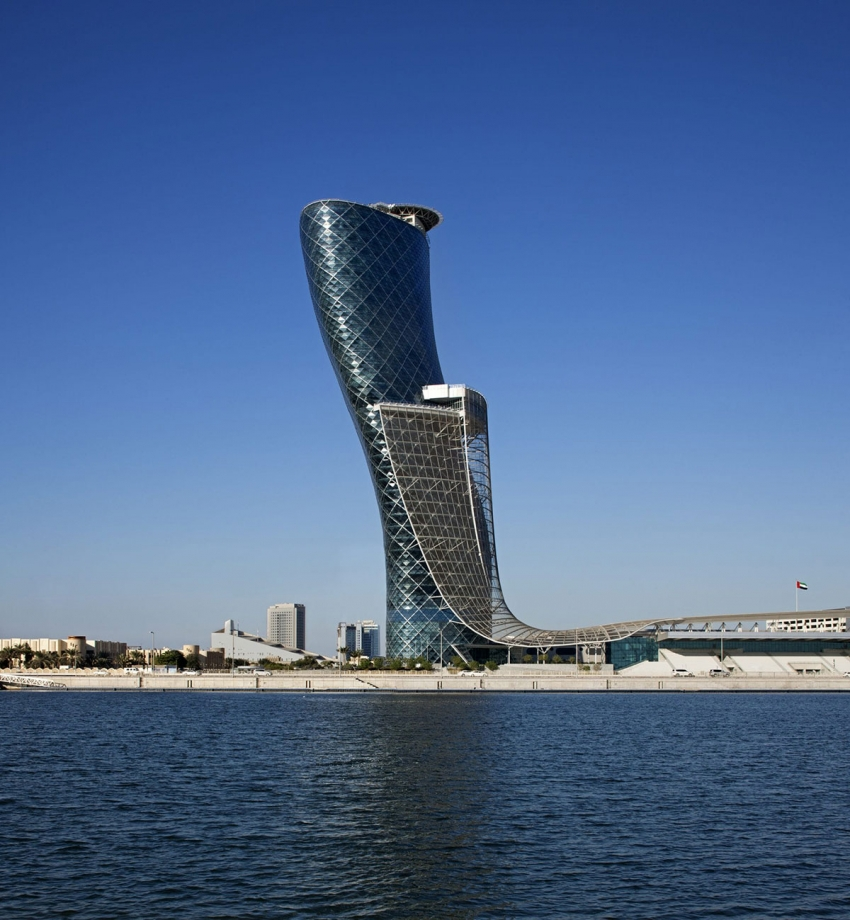Sky Building: (281, 191, 523, 663)
